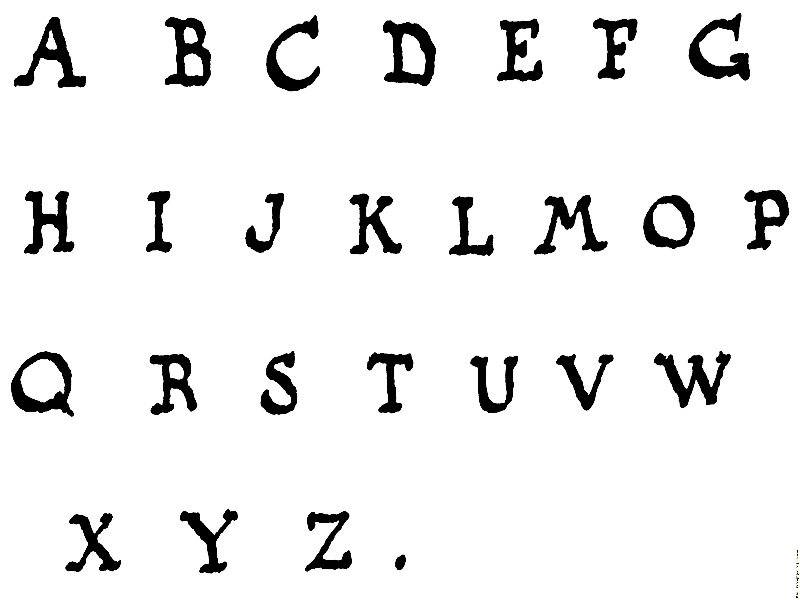letter: (521, 175, 632, 283), (7, 331, 97, 439), (46, 494, 147, 590), (644, 342, 744, 427), (432, 180, 503, 299), (257, 6, 341, 106), (131, 338, 226, 426), (163, 491, 251, 583), (331, 183, 418, 276), (372, 11, 459, 102), (233, 181, 315, 276), (679, 8, 765, 92), (548, 339, 629, 426), (726, 176, 794, 279), (485, 12, 556, 106), (15, 9, 92, 94), (146, 9, 222, 91), (354, 343, 426, 426), (638, 179, 707, 264), (289, 501, 361, 582), (249, 345, 319, 428), (455, 346, 529, 419), (11, 186, 80, 262), (581, 12, 644, 90), (134, 184, 186, 269)
